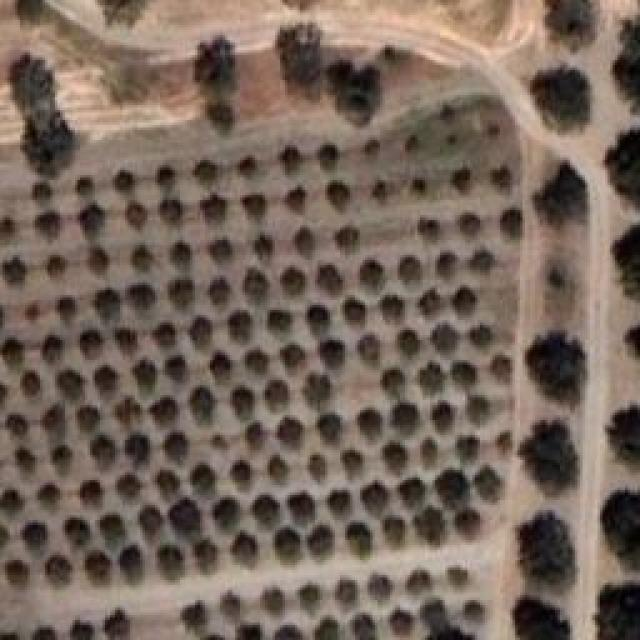Tree: (515, 323, 587, 407), (515, 413, 581, 503), (515, 510, 582, 586), (528, 160, 591, 240), (323, 58, 385, 126), (275, 18, 326, 99), (20, 112, 87, 172), (533, 65, 594, 130), (5, 55, 63, 121), (607, 2, 640, 115), (590, 567, 640, 640), (595, 480, 640, 558), (507, 587, 572, 640), (540, 0, 604, 48), (192, 37, 238, 97), (600, 398, 639, 466), (605, 225, 640, 287), (612, 130, 640, 195), (10, 0, 55, 34), (98, 0, 154, 24), (342, 520, 374, 561), (200, 98, 237, 132), (190, 460, 224, 497), (432, 465, 465, 503), (210, 498, 243, 533), (360, 482, 395, 515), (0, 552, 35, 584), (305, 373, 333, 410), (170, 498, 204, 528), (273, 528, 302, 563), (378, 435, 408, 468), (190, 388, 216, 426), (95, 287, 123, 322), (434, 400, 462, 435), (253, 495, 282, 528), (230, 533, 258, 567), (490, 355, 518, 389), (243, 268, 269, 304), (418, 505, 444, 541), (288, 490, 319, 520), (450, 510, 480, 541), (105, 170, 134, 202), (415, 360, 443, 393), (475, 467, 502, 501), (90, 435, 116, 470), (118, 475, 153, 501), (150, 398, 180, 428), (230, 385, 255, 421), (263, 587, 291, 619), (435, 317, 463, 349), (468, 315, 496, 347), (125, 432, 150, 467), (195, 535, 223, 566), (148, 163, 184, 187), (333, 577, 360, 609), (80, 203, 106, 236), (123, 547, 148, 581), (200, 195, 228, 225), (383, 365, 411, 395), (318, 265, 344, 297), (223, 590, 246, 626), (360, 260, 385, 293), (133, 360, 158, 393), (323, 485, 350, 515), (338, 451, 368, 478), (400, 573, 432, 598), (190, 318, 214, 351), (275, 417, 299, 450), (268, 458, 296, 486), (280, 267, 306, 297), (453, 287, 479, 317), (280, 344, 306, 374), (105, 608, 131, 638), (170, 280, 195, 311), (265, 380, 290, 411), (308, 528, 333, 559), (22, 180, 54, 204), (230, 310, 254, 342), (454, 433, 482, 460), (368, 578, 394, 607), (358, 335, 381, 367), (390, 401, 417, 428), (451, 361, 478, 388), (115, 398, 141, 426), (80, 478, 106, 506), (465, 400, 487, 433), (195, 154, 219, 184), (328, 182, 352, 212), (80, 330, 104, 360), (95, 367, 119, 397), (43, 405, 67, 435), (165, 432, 189, 462), (210, 354, 234, 384), (360, 408, 384, 438), (318, 418, 348, 442), (498, 428, 522, 458), (308, 305, 331, 336), (390, 518, 413, 549), (35, 213, 61, 240), (68, 613, 94, 640), (3, 258, 28, 286), (103, 510, 131, 535), (398, 478, 426, 503), (500, 207, 523, 237), (43, 335, 66, 365), (3, 338, 26, 368), (320, 343, 345, 370), (185, 600, 210, 627), (280, 145, 304, 173), (163, 550, 187, 578), (443, 565, 466, 594), (233, 458, 255, 488), (73, 173, 98, 199), (300, 590, 325, 616), (335, 225, 359, 252), (398, 255, 422, 282), (60, 373, 83, 401), (398, 330, 421, 358), (210, 237, 235, 262), (50, 560, 74, 586), (125, 203, 148, 230), (88, 248, 111, 275), (133, 245, 156, 272), (420, 290, 443, 317), (78, 405, 101, 432), (295, 228, 315, 259), (158, 468, 180, 496), (392, 608, 414, 636), (153, 322, 177, 347), (0, 490, 24, 515), (235, 620, 265, 640), (53, 445, 74, 473), (233, 153, 257, 177), (130, 288, 155, 311), (352, 617, 377, 640), (25, 523, 51, 545), (85, 553, 111, 575), (210, 278, 231, 305), (165, 355, 186, 382), (312, 454, 332, 482), (243, 196, 266, 220), (470, 250, 494, 273), (245, 353, 269, 376), (318, 145, 339, 171), (285, 188, 306, 214), (438, 253, 459, 279), (163, 200, 183, 227), (385, 295, 405, 322), (243, 425, 262, 453), (268, 310, 292, 332), (420, 440, 442, 464), (170, 242, 191, 267), (58, 298, 78, 324), (23, 370, 43, 396), (422, 598, 442, 624), (255, 235, 275, 260), (453, 167, 473, 192), (345, 300, 365, 325), (140, 508, 161, 531), (400, 130, 420, 154), (18, 450, 37, 475), (48, 255, 69, 277), (420, 218, 440, 241), (460, 213, 480, 236), (65, 520, 85, 543), (40, 483, 60, 506), (118, 330, 136, 355), (8, 415, 28, 437), (30, 623, 54, 640), (315, 620, 335, 640), (492, 168, 510, 188), (278, 625, 300, 640), (373, 180, 389, 200), (0, 217, 16, 237), (413, 178, 428, 194), (363, 140, 376, 158), (25, 303, 36, 321)
